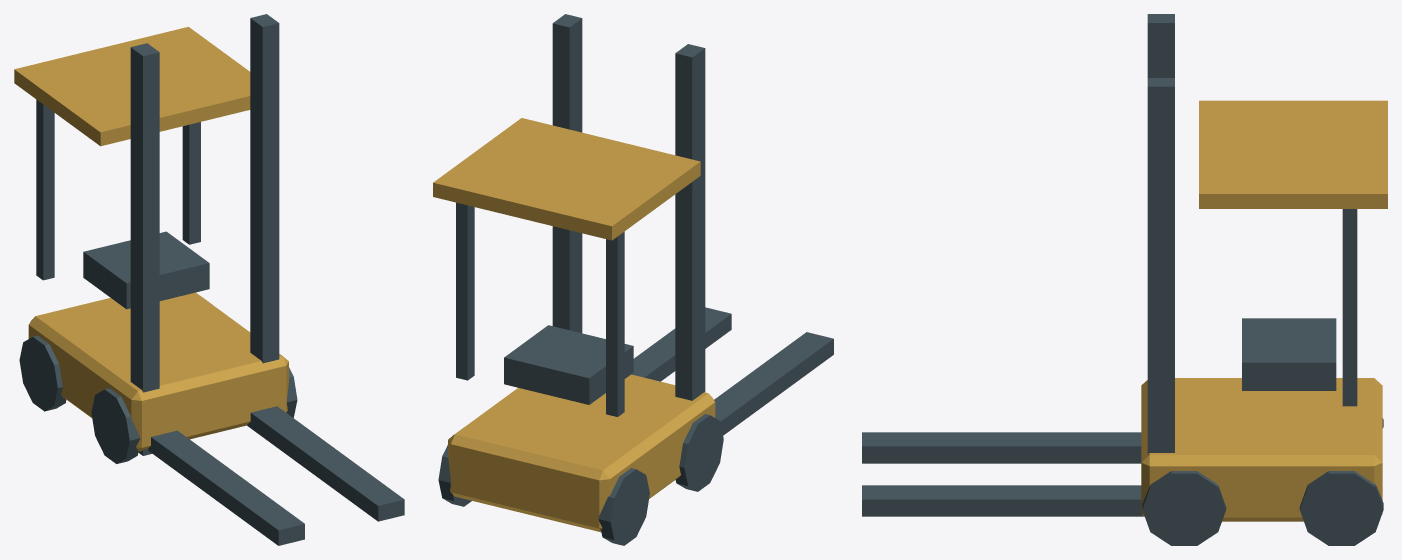
The model's file is forklift.glb.
The picture shows the model from 3 angles, left to right: view 1: azimuth 30°, elevation 25°; view 2: azimuth 150°, elevation 25°; view 3: azimuth 270°, elevation 25°; orthographic projection. The views are drawn at different scales.
Parts seen in each view (by area): view 1: forklift; view 2: forklift; view 3: forklift.
Boxes of the visible parts, x1,y1,x2,y2 form: forklift: (14,14,404,545); forklift: (433,14,833,545); forklift: (862,14,1387,545).
Bounding box in the file's own units: 1.05 × 2.37 × 2.5.
